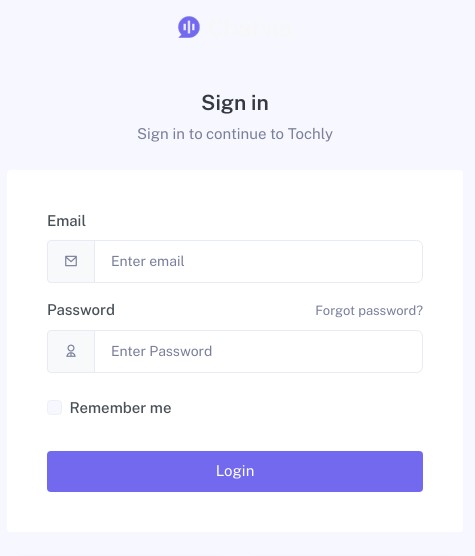
Test: Login Component › validates input fields
Click the button "Login" at (235, 471), box [47,451,423,492]
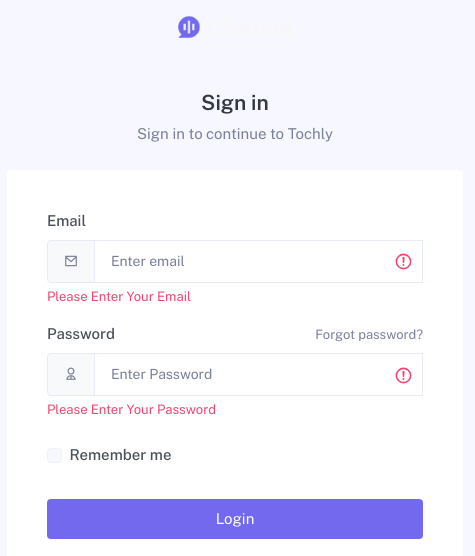
Expected: the text "Please Enter Your Email" is shown, [47,289,191,304]
Expected: the text "Please Enter Your Password" is shown, [47,402,216,417]
